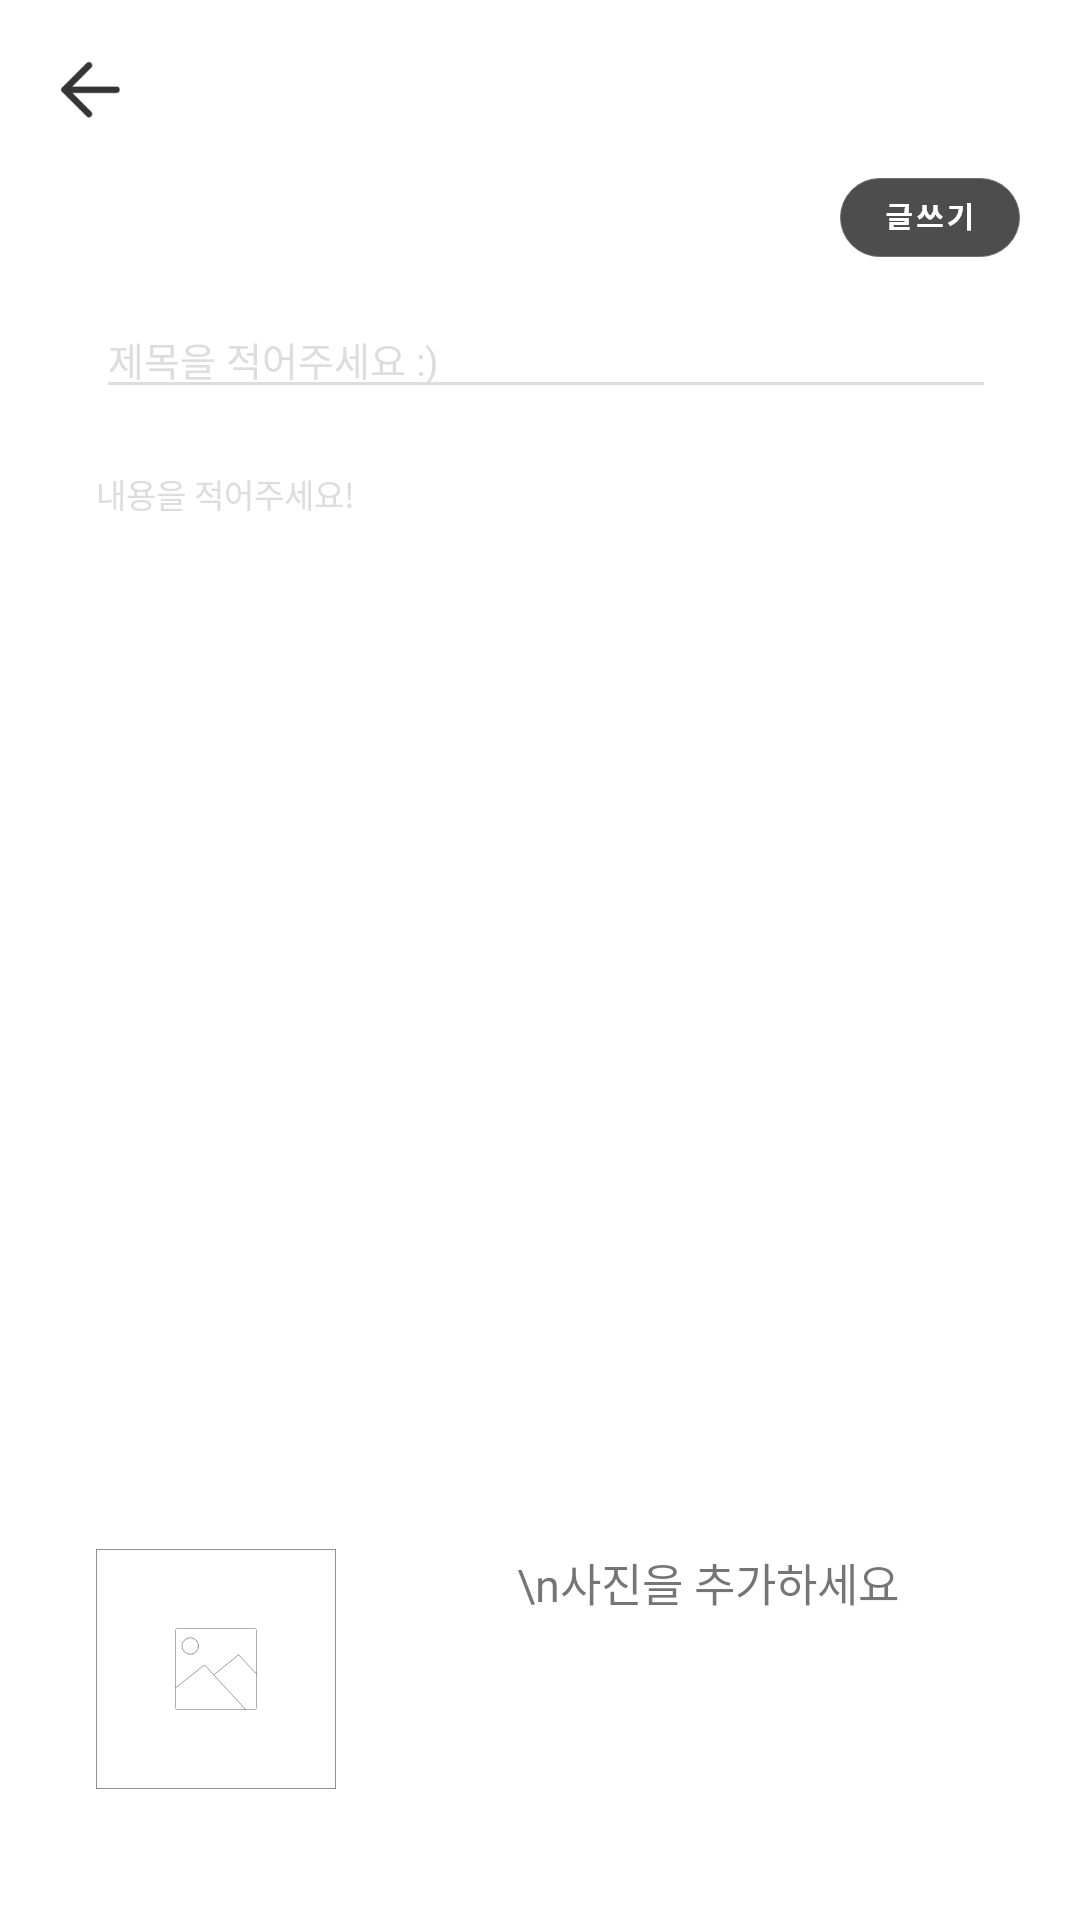

Where icons sit on this 1080x1920 app screen, as (x1, y1, x2, y2):
backbutton: (61, 61, 120, 118)
